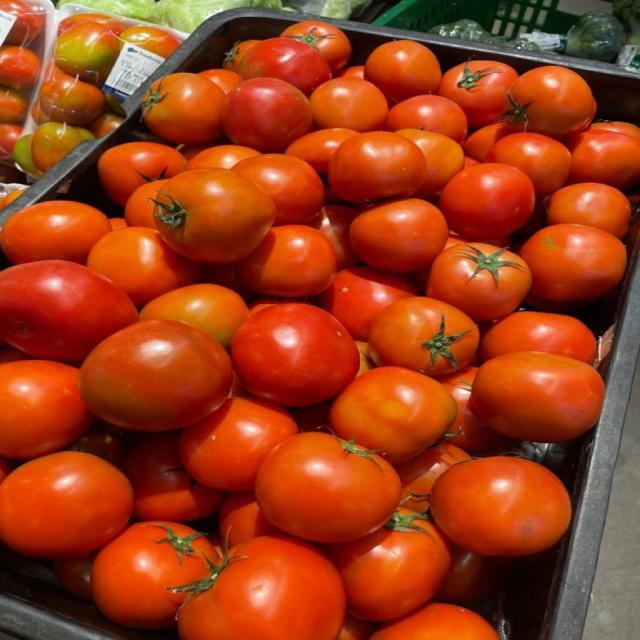tomato: (178, 535, 345, 639), (79, 320, 232, 431), (255, 433, 400, 542), (324, 508, 451, 621), (0, 452, 133, 559), (0, 261, 138, 362), (431, 457, 571, 555), (91, 521, 218, 628), (232, 303, 359, 407), (330, 366, 457, 463), (472, 352, 604, 442), (155, 169, 275, 262), (180, 398, 298, 491), (0, 360, 93, 459), (87, 227, 199, 307), (368, 297, 479, 377), (122, 433, 222, 521), (520, 224, 626, 301), (427, 243, 531, 321), (439, 164, 534, 241), (350, 199, 448, 273), (318, 267, 417, 340), (238, 225, 336, 297), (140, 284, 249, 348), (0, 200, 110, 263), (328, 132, 426, 202), (222, 78, 312, 152), (233, 154, 324, 225), (502, 66, 593, 137), (440, 366, 511, 451), (480, 312, 596, 364), (142, 73, 225, 144), (98, 142, 186, 206), (485, 133, 571, 198), (438, 61, 518, 127), (394, 442, 469, 512), (239, 38, 330, 95), (365, 40, 441, 103), (397, 129, 465, 199), (547, 183, 631, 238), (371, 603, 499, 639), (437, 546, 513, 605), (310, 77, 388, 132), (568, 130, 639, 189), (54, 22, 120, 84), (386, 95, 467, 144), (280, 21, 351, 74), (219, 491, 278, 548), (286, 128, 357, 174), (309, 205, 359, 269), (32, 122, 94, 172), (67, 421, 126, 466), (201, 263, 257, 304), (125, 179, 168, 229), (0, 0, 45, 46), (510, 198, 548, 252), (120, 25, 181, 58), (463, 122, 513, 162), (54, 553, 95, 601), (187, 145, 259, 170), (0, 46, 39, 89), (57, 13, 126, 36), (526, 291, 595, 313), (13, 134, 42, 178), (291, 402, 330, 433), (223, 40, 260, 72), (249, 297, 305, 315), (199, 69, 239, 94), (0, 88, 28, 123), (337, 613, 374, 639), (87, 112, 124, 137), (591, 121, 639, 140), (176, 143, 213, 163), (0, 124, 21, 159), (176, 143, 213, 162), (355, 341, 374, 377), (0, 344, 31, 364), (229, 372, 250, 397), (2, 187, 27, 208), (105, 94, 126, 116), (31, 101, 49, 124), (485, 236, 513, 249), (334, 66, 364, 78), (0, 458, 13, 482), (108, 218, 128, 230), (463, 156, 479, 168)
